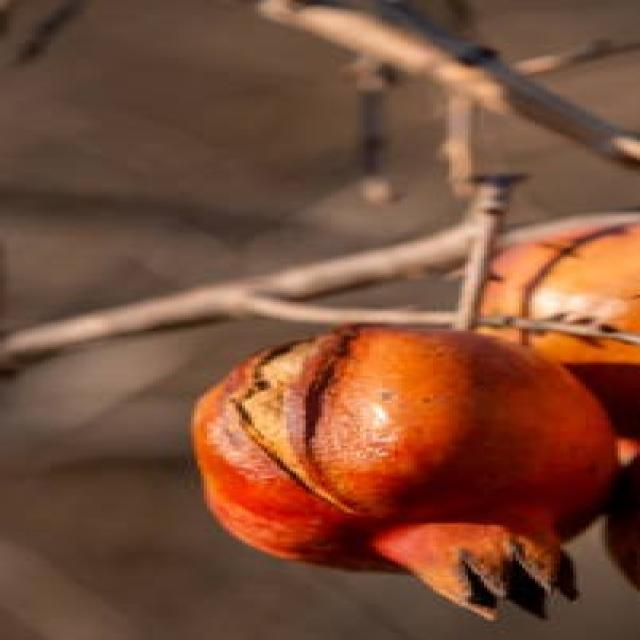overripe: (169, 314, 640, 618)
